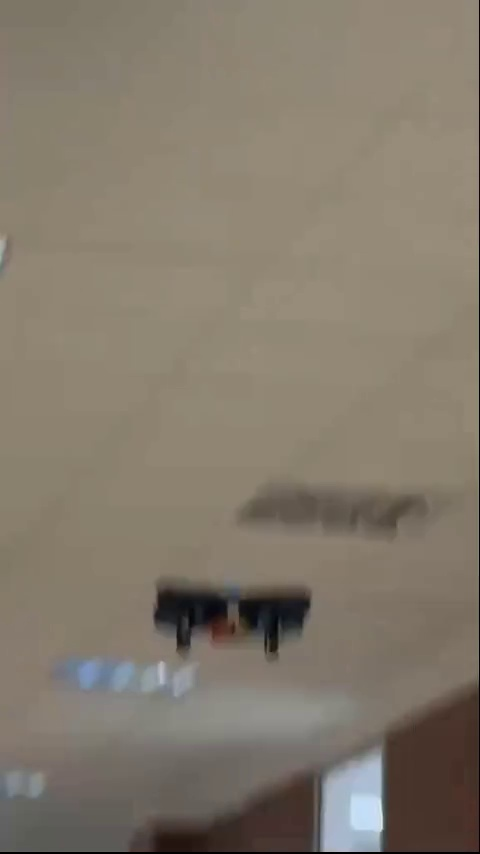drone: (153, 589, 313, 662)
